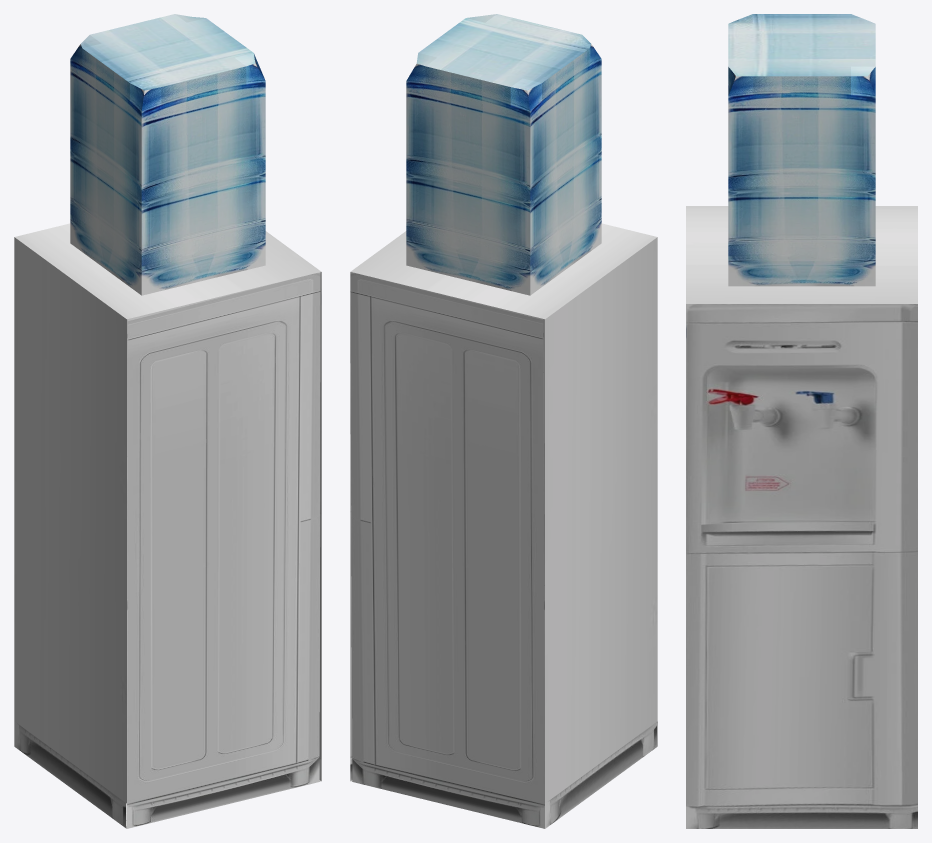
The model's file is dystrybutor_wody.fbx.
The picture shows the model from 3 angles, left to right: view 1: azimuth 30°, elevation 25°; view 2: azimuth 150°, elevation 25°; view 3: azimuth 270°, elevation 25°; orthographic projection. The views are drawn at different scales.
Parts seen in each view (by area): view 1: Cube; view 2: Cube; view 3: Cube.
Part boxes in pixels (x1=…): Cube: x1=14, y1=14, x2=321, y2=828; Cube: x1=350, y1=14, x2=657, y2=828; Cube: x1=686, y1=14, x2=917, y2=828.
Size of the model in its own units: 200 by 700 by 200.
1 material, 1 textured.
